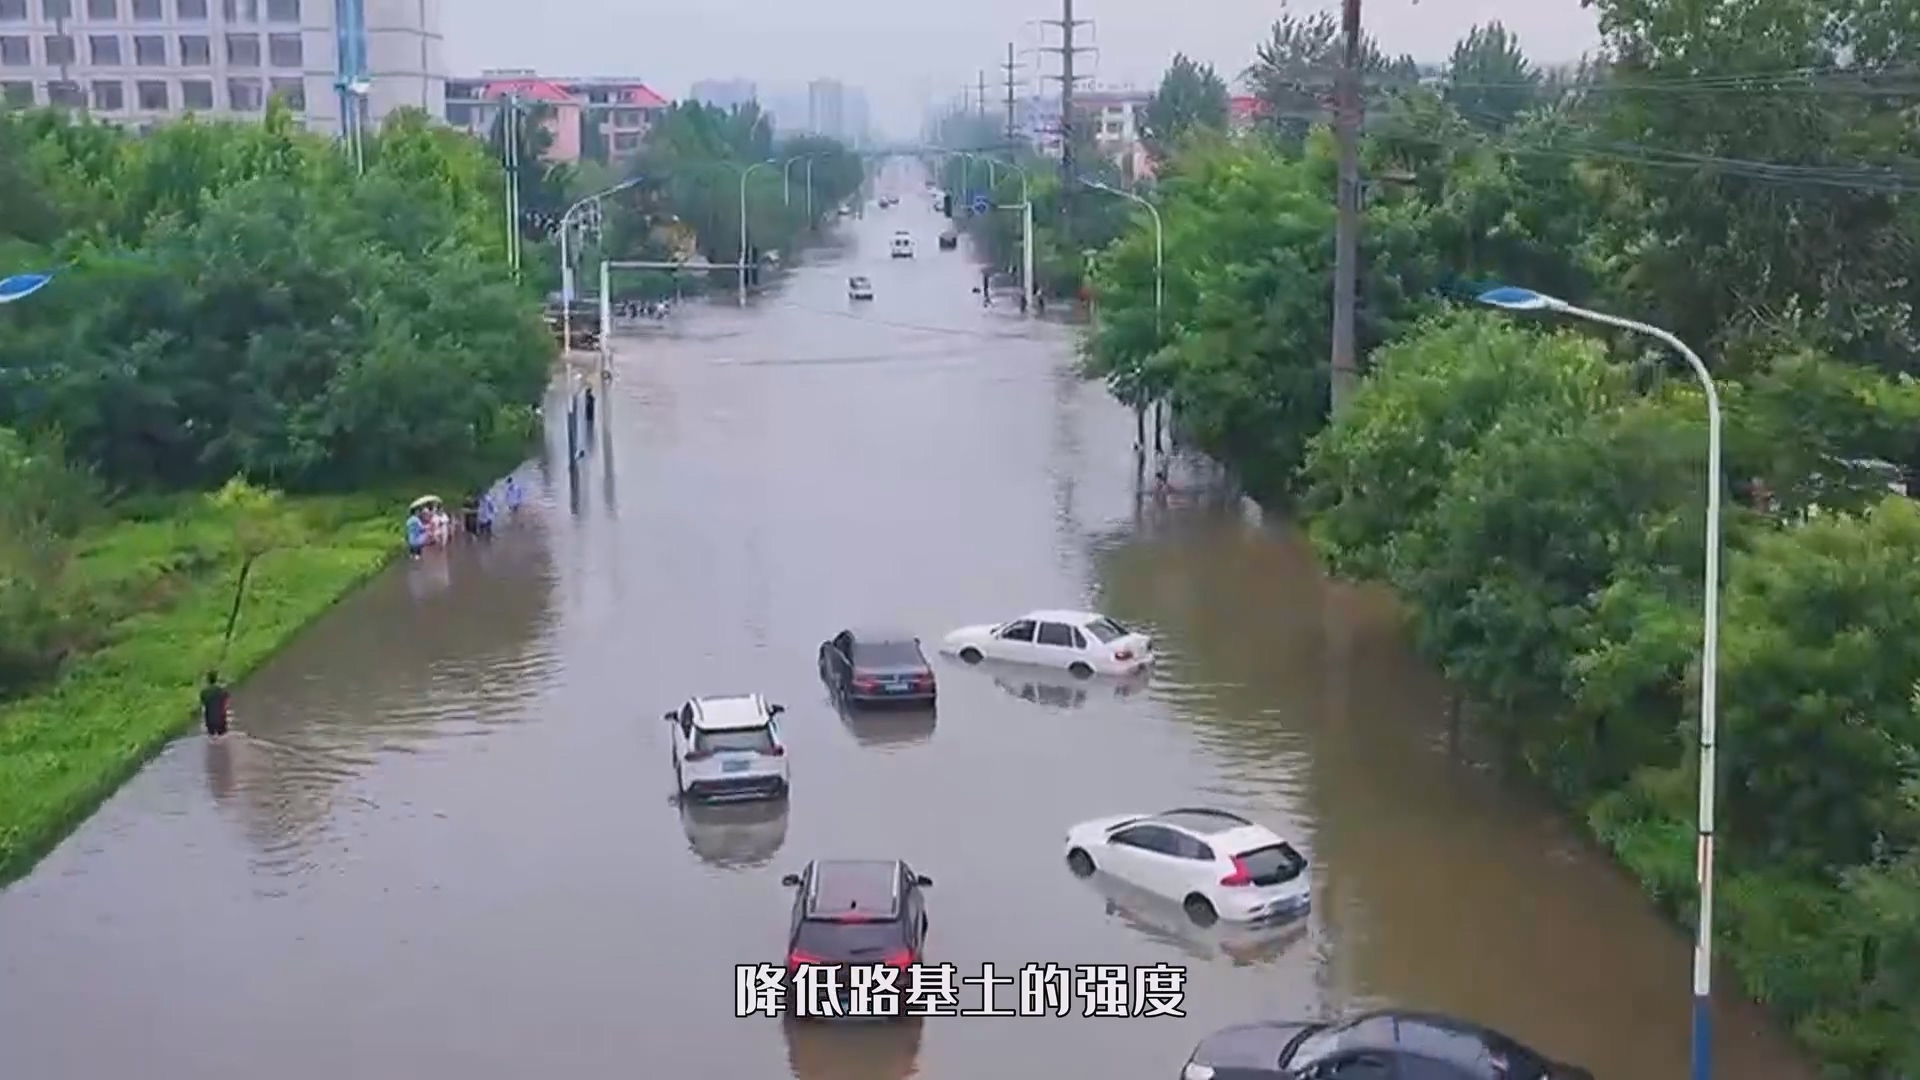puddle: (181, 339, 1561, 1080)
